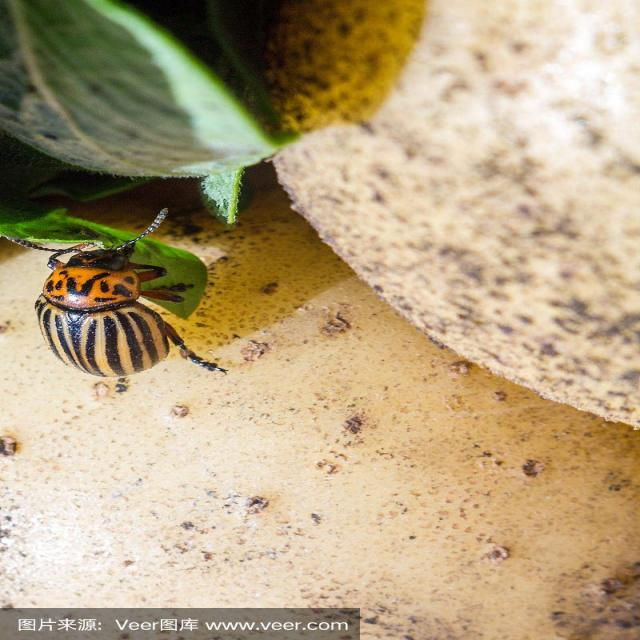ShuCaiHuaBanChong-Grown-: (26, 230, 190, 398)
